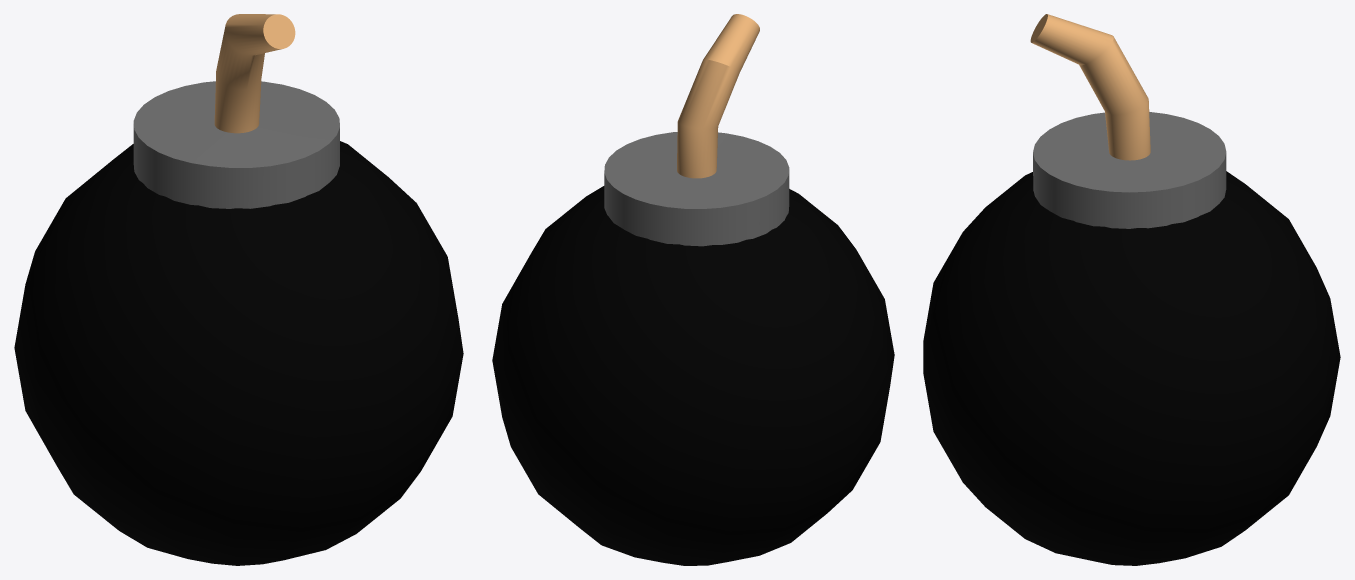
File: Bomb.fbx
3 renders of one model, left to right at view 1: azimuth 30°, elevation 25°; view 2: azimuth 150°, elevation 25°; view 3: azimuth 270°, elevation 25°, orthographic. The views are drawn at different scales.
Visible parts, largest first — view 1: Bomb; view 2: Bomb; view 3: Bomb.
Part boxes in pixels (x1=…): Bomb: x1=14, y1=14, x2=463, y2=565; Bomb: x1=492, y1=14, x2=894, y2=565; Bomb: x1=923, y1=14, x2=1340, y2=565.
Size of the model in its own units: 55.38 by 77.01 by 55.15.
